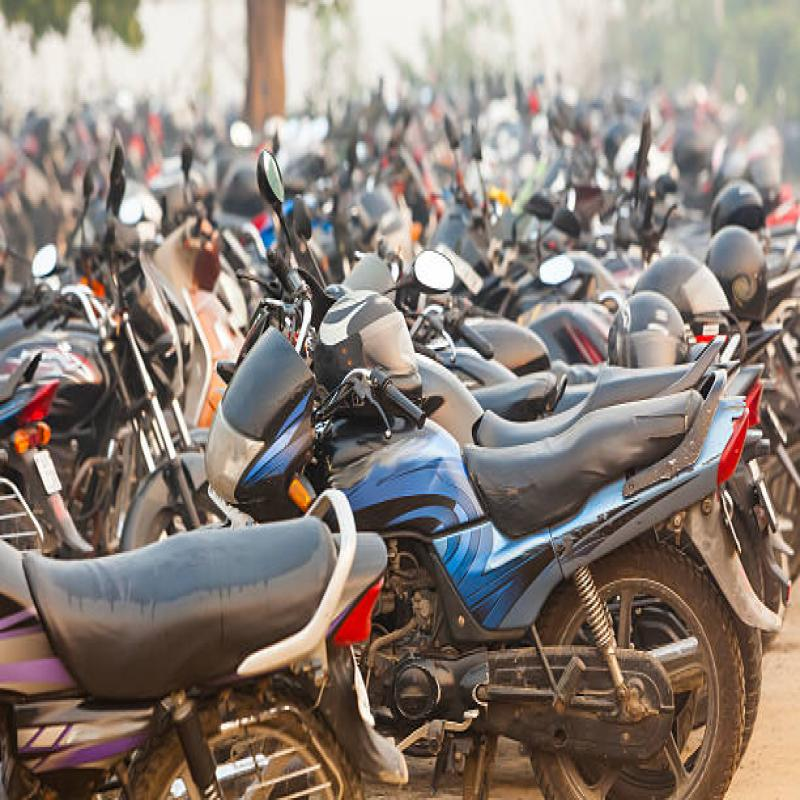bike: (197, 342, 730, 737), (5, 524, 496, 765), (19, 232, 220, 483)
